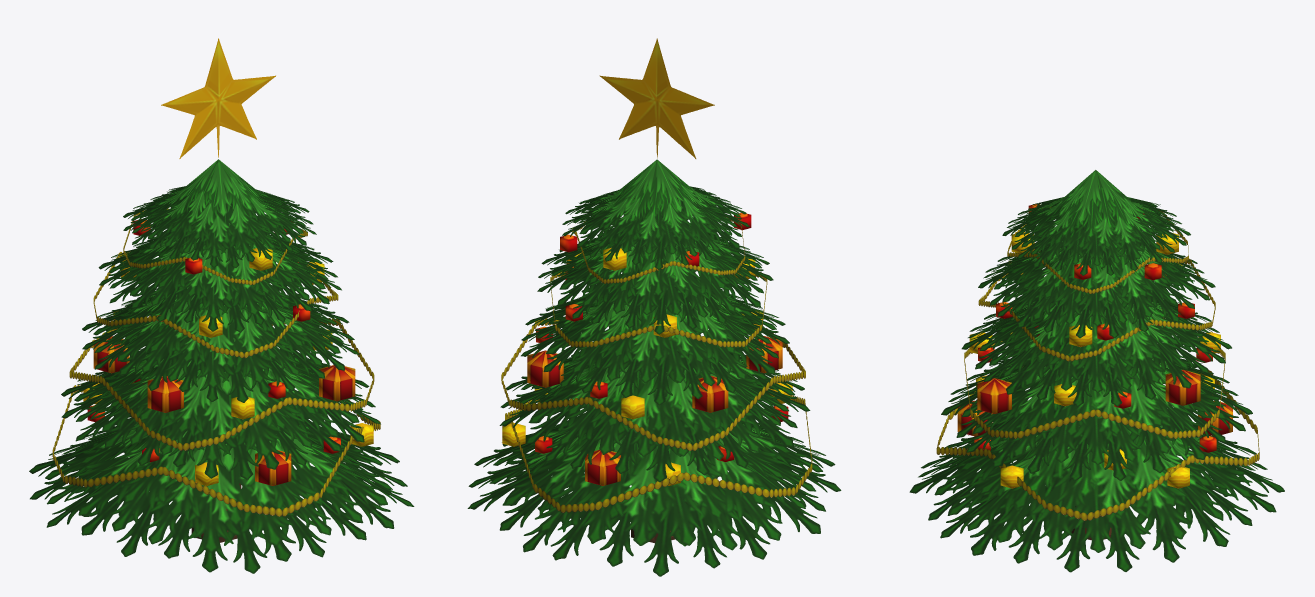
The model's file is ChristmasTree.FBX.
3 renders of one model, left to right at view 1: azimuth 30°, elevation 25°; view 2: azimuth 150°, elevation 25°; view 3: azimuth 270°, elevation 25°, orthographic. The views are drawn at different scales.
Parts seen in each view (by area): view 1: PineTree_Decorated; view 2: PineTree_Decorated; view 3: PineTree_Decorated.
Part boxes in pixels (x1,y1,x2,y2): PineTree_Decorated: (29, 38, 414, 573); PineTree_Decorated: (467, 38, 841, 576); PineTree_Decorated: (909, 170, 1284, 572).
Bounding box in the file's own units: 179 × 233 × 179.
1 material, 1 textured.
